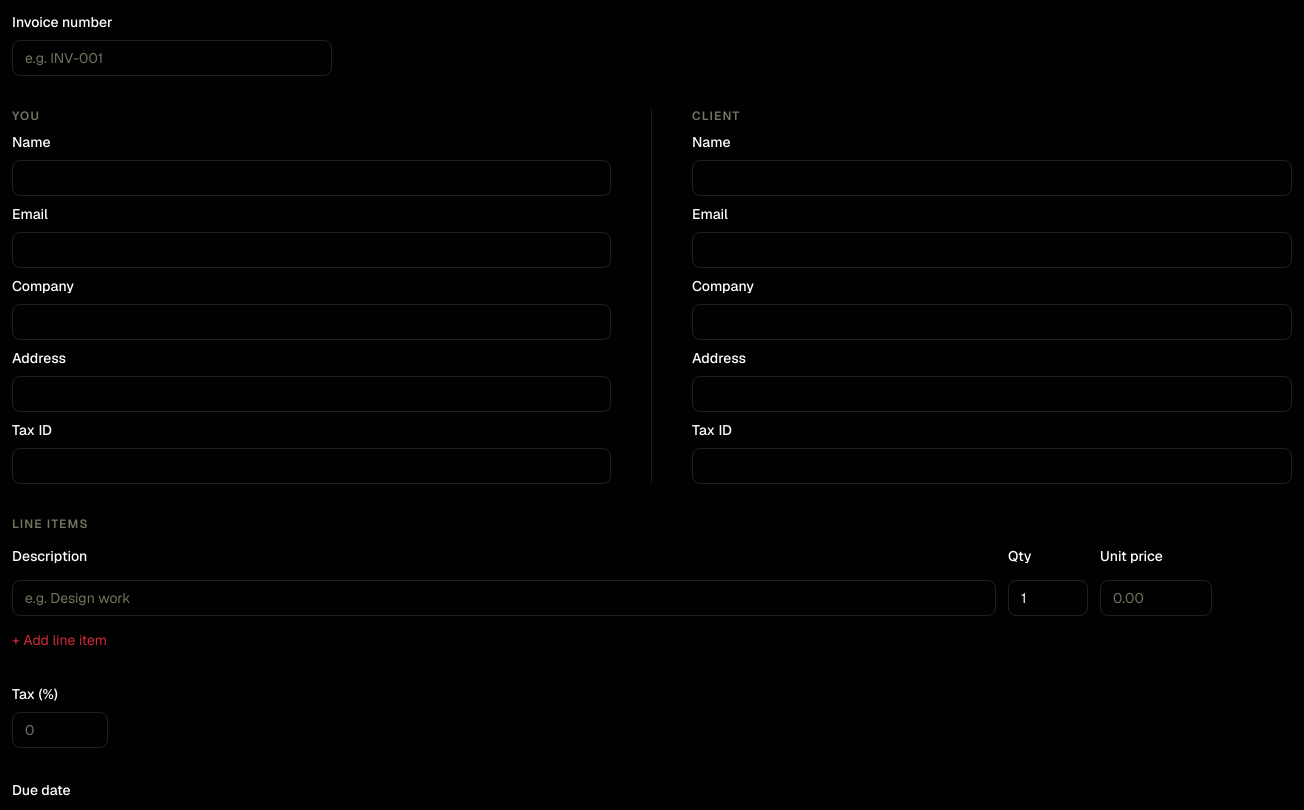
InvoiceForm line item validation › rejects unit price values above 1,000,000,000
Type "1000000001" into the field labelled "Unit price". click: (1156, 598)
box: left=1100, top=580, right=1212, bottom=616
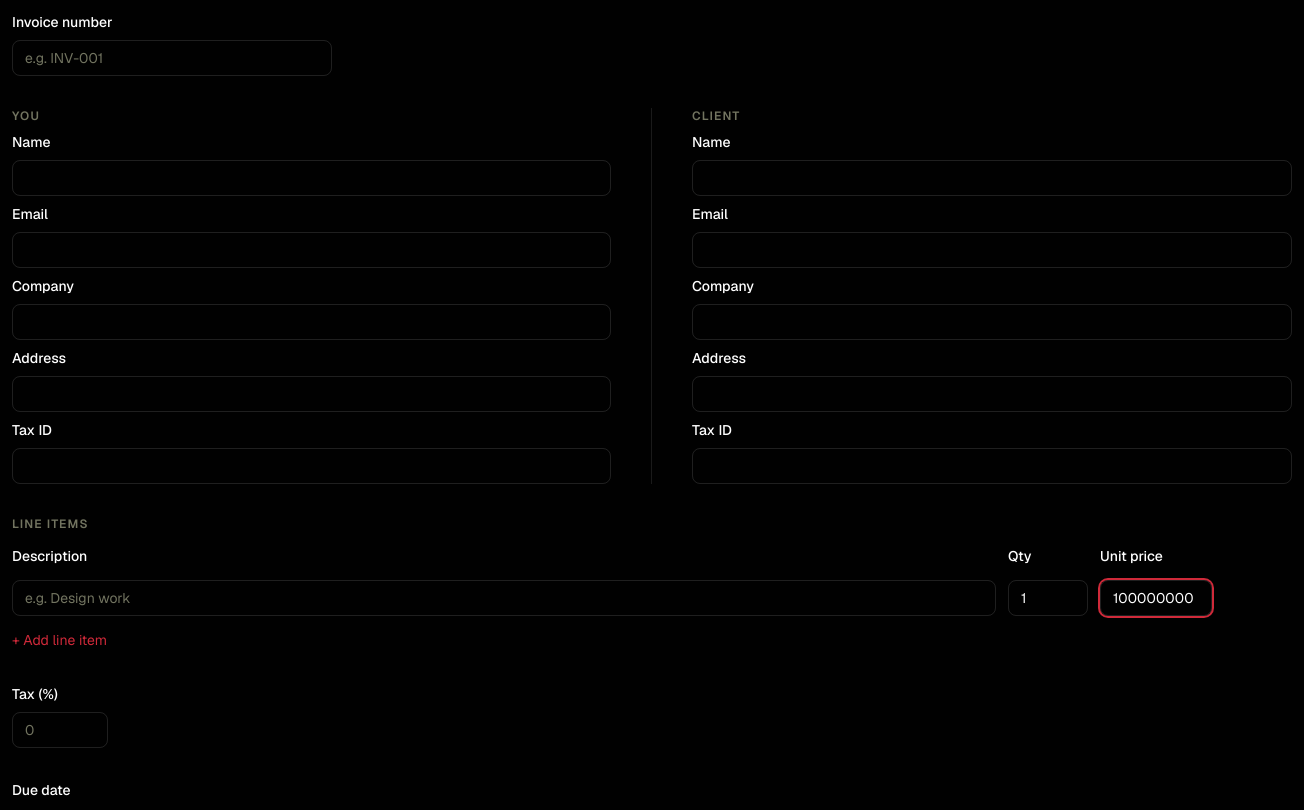
Check: the field labelled "Unit price" does not hold "1000000001", box left=1100, top=580, right=1212, bottom=616
